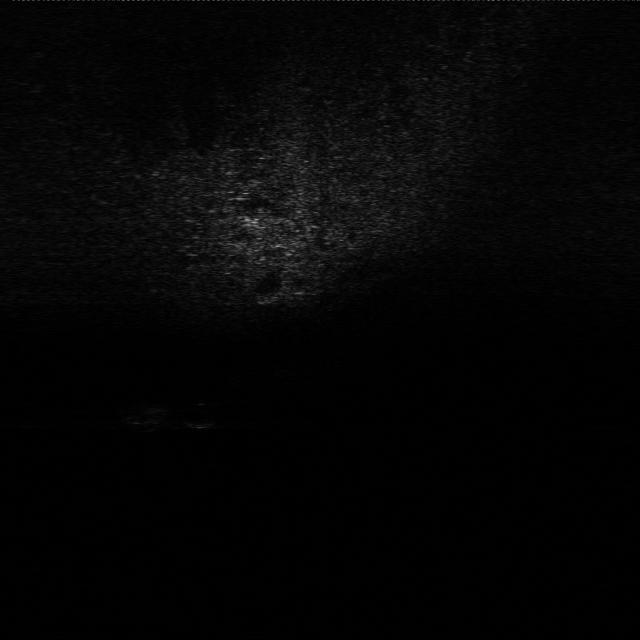ball: (183, 401, 223, 432)
circle cage: (110, 396, 180, 433)
